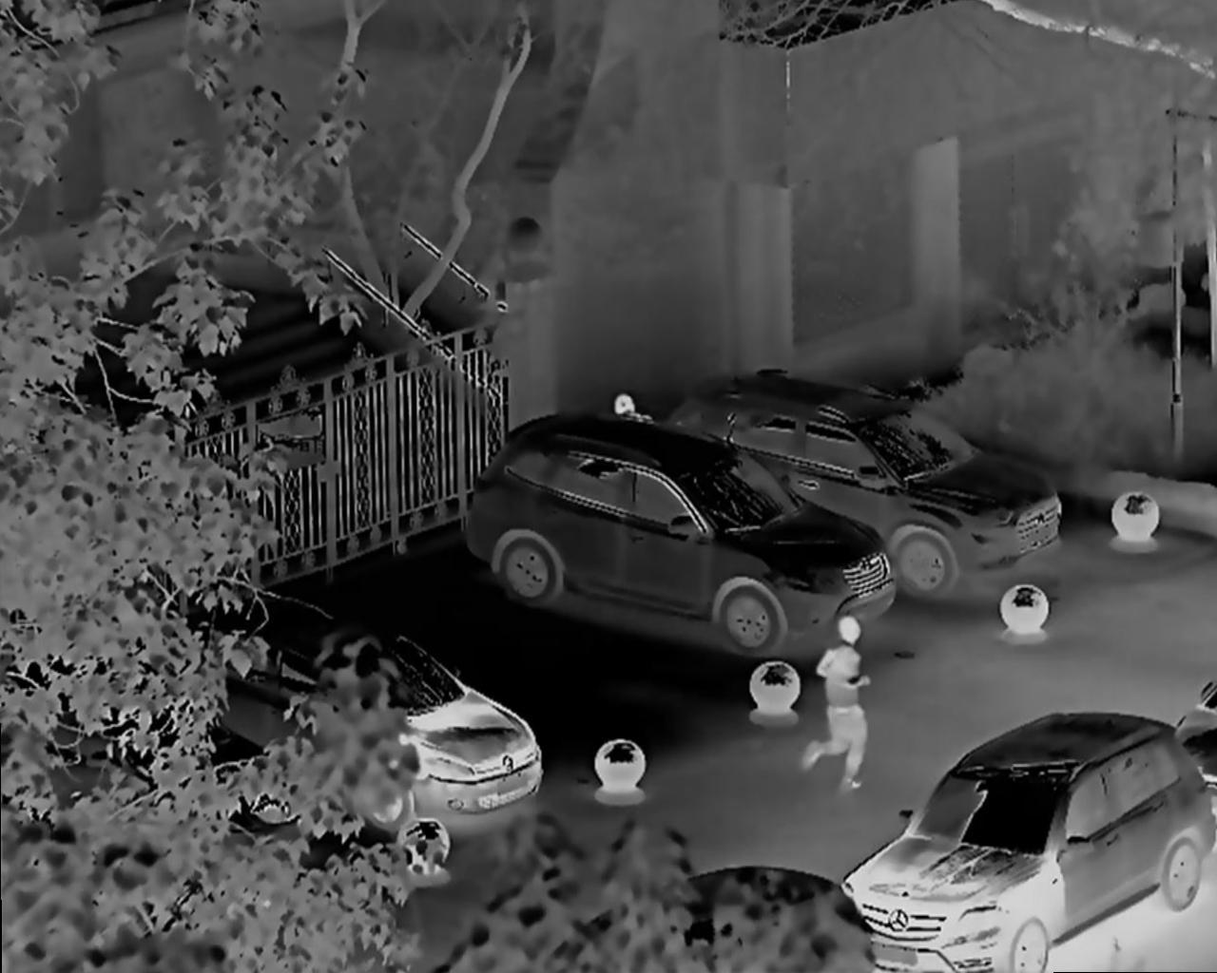person: (795, 614, 872, 794), (608, 391, 656, 430)
